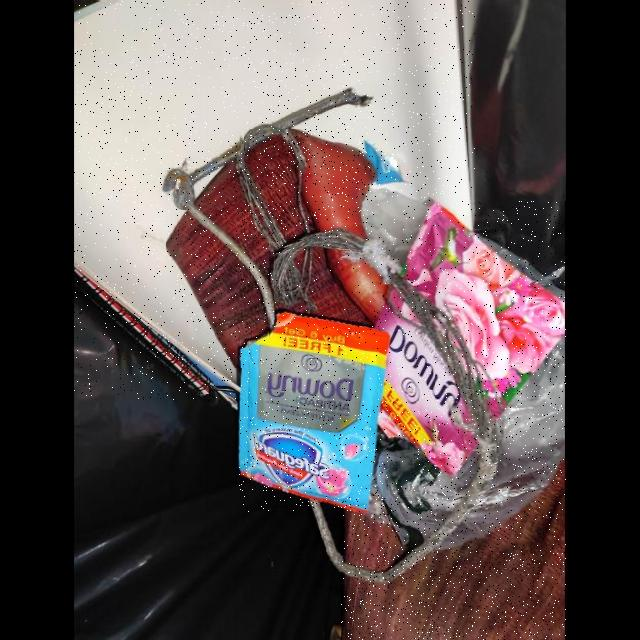biowaste: (341, 456, 566, 640), (167, 210, 269, 368), (244, 129, 371, 239), (195, 157, 272, 283), (274, 246, 371, 326), (343, 511, 408, 571)
paper: (74, 1, 476, 400)
plastic: (436, 333, 566, 549), (401, 447, 480, 545)
wrapper: (376, 201, 566, 465), (239, 308, 390, 512)
